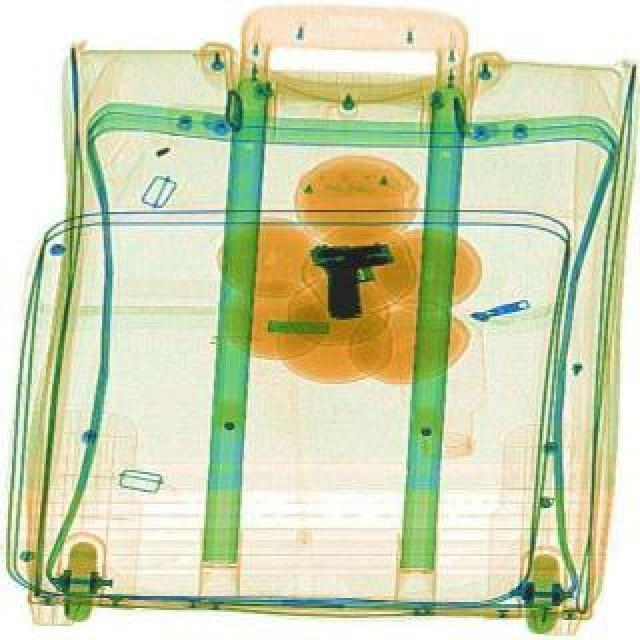gun: (312, 240, 404, 320)
